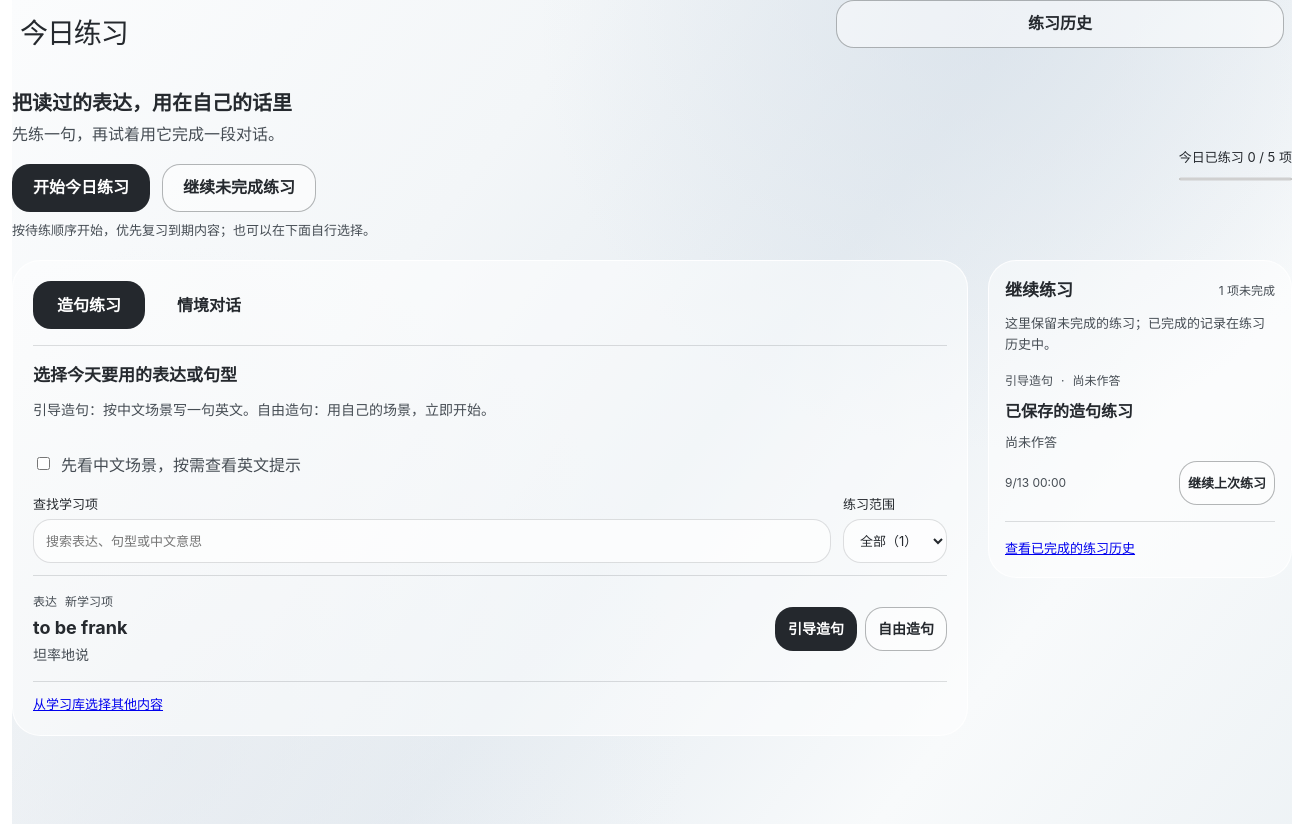
Test: opens a saved on-demand round without exposing English and reveals only after the saved action
Step 1. Click the button "继续上次练习" → (1227, 483), box [1179,461,1275,505]
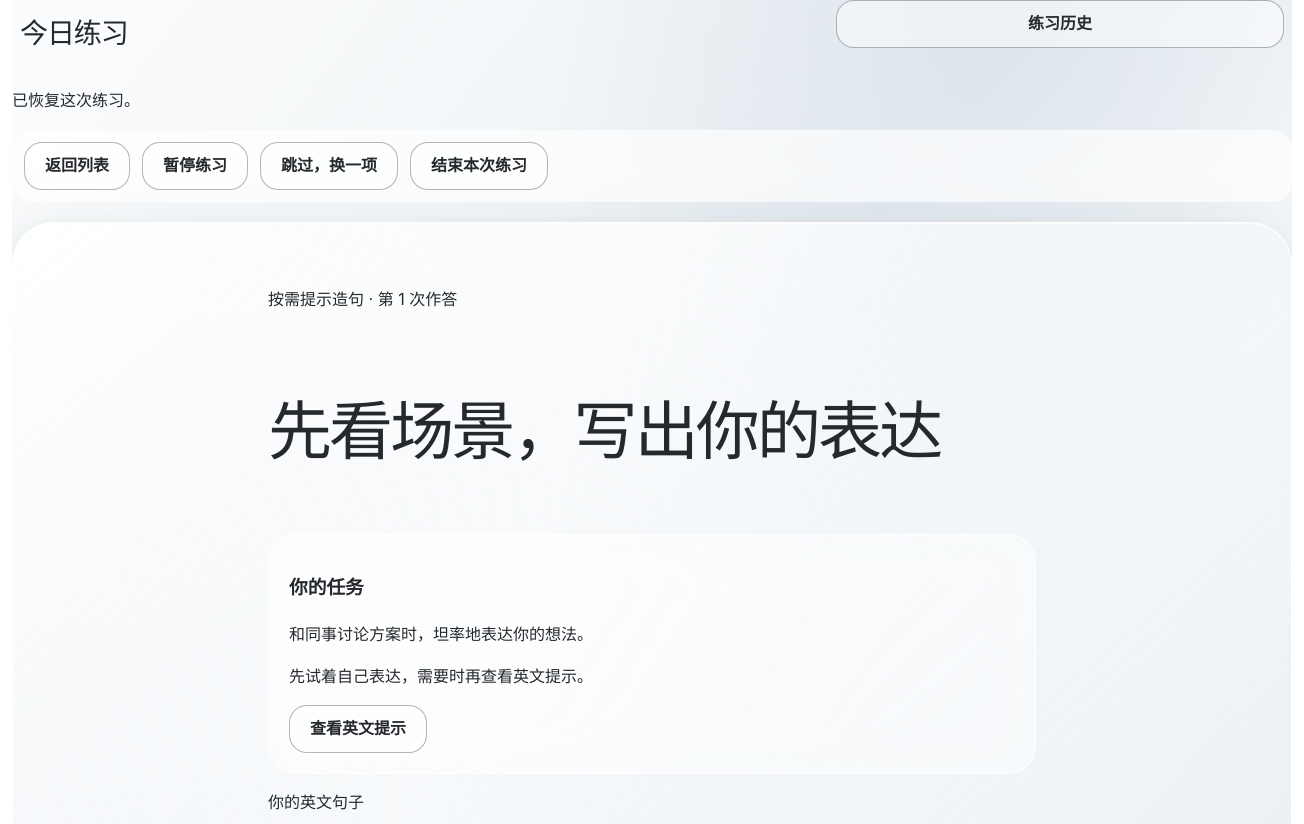
Expected: the text "to be frank" is gone
Expected: the element that starts with "按需提示造句" shows "和同事讨论方案", [289,624,593,644]
Step 2. Click the button "查看英文提示" → (358, 729), box [289,705,427,753]
(page scrolled)
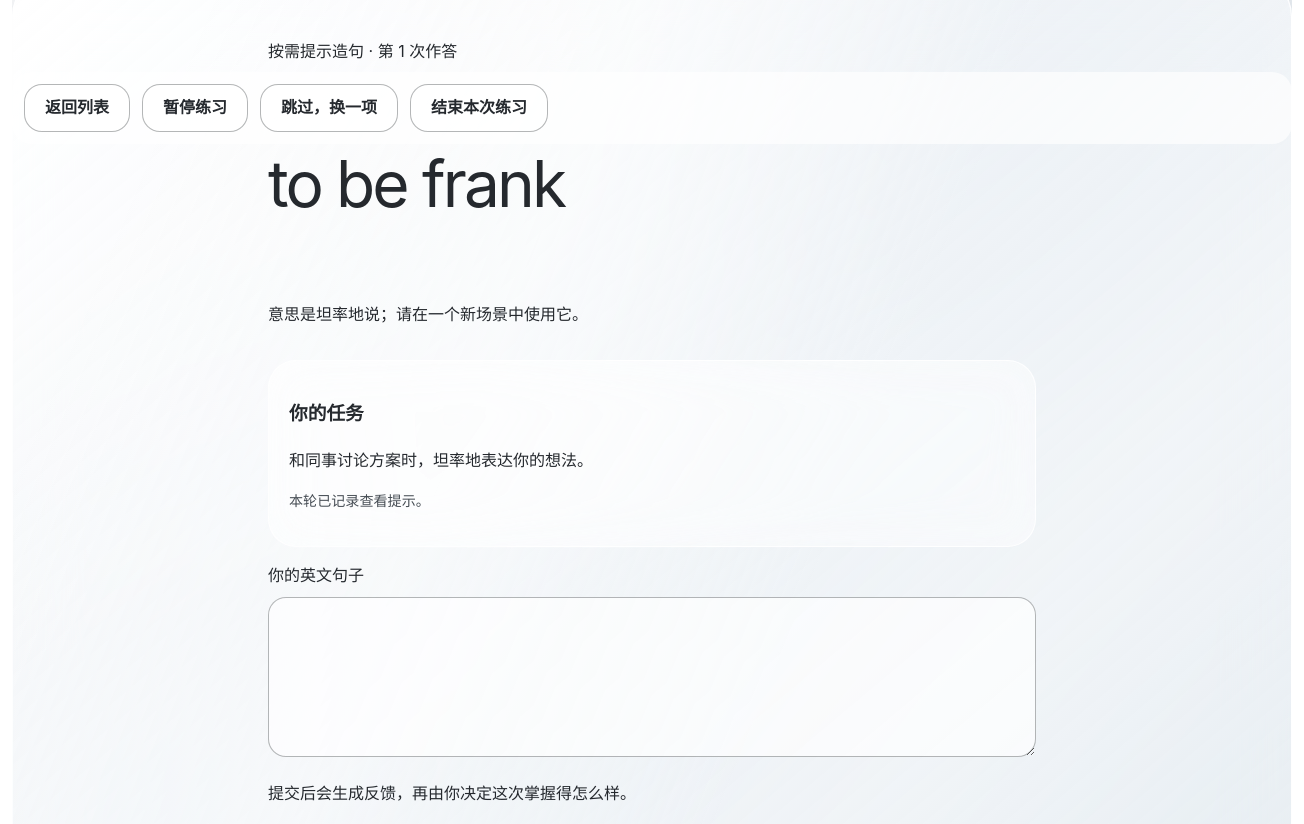
Expected: the element that starts with "按需提示造句" shows "to be frank", [268,145,564,222]
